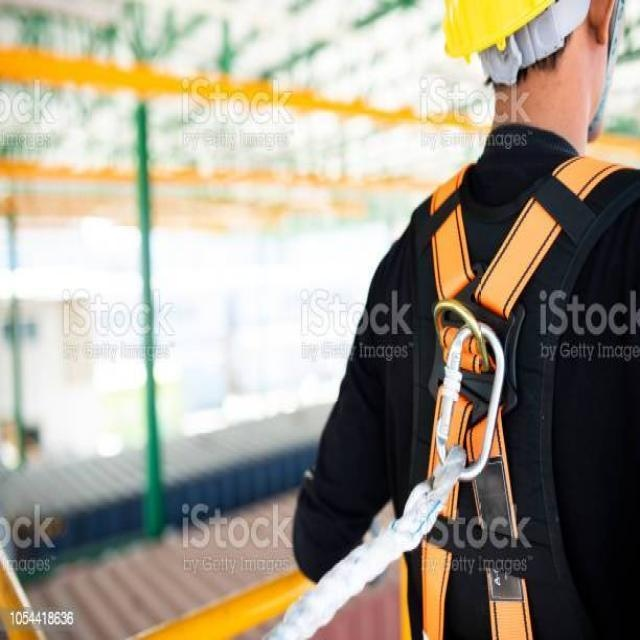Arnes_seguridad: (366, 142, 640, 640)
